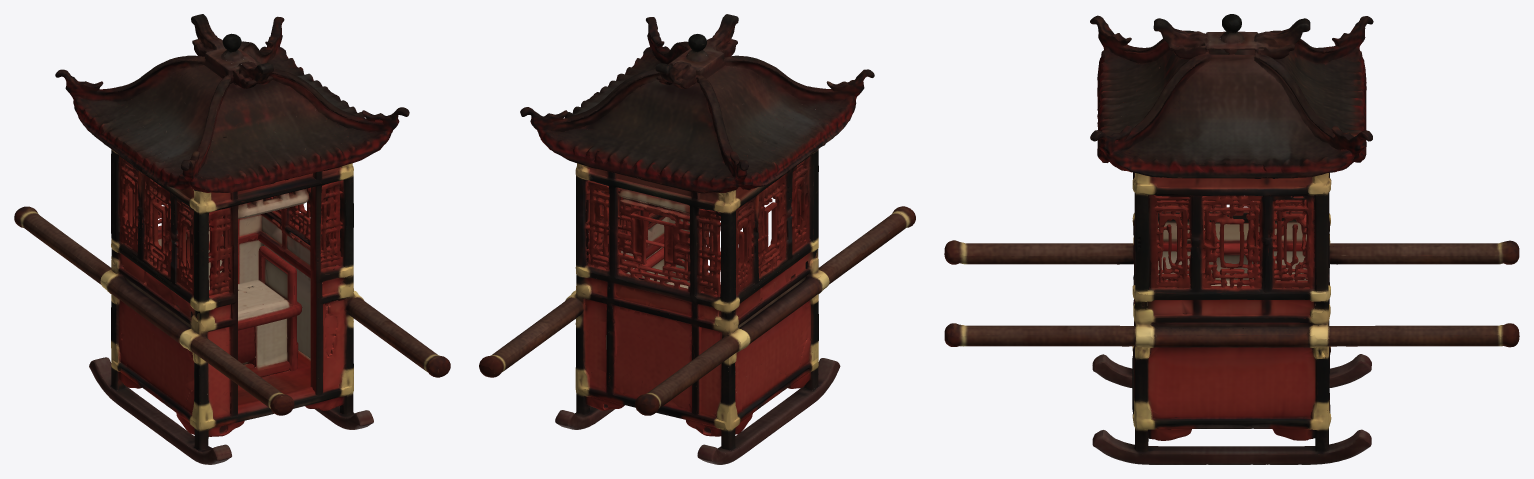
Rendered from sedan-chair.glb.
3 renders of one model, left to right at view 1: azimuth 30°, elevation 25°; view 2: azimuth 150°, elevation 25°; view 3: azimuth 270°, elevation 25°, orthographic. The views are drawn at different scales.
Parts seen in each view (by area): view 1: world; view 2: world; view 3: world.
Boxes of the visible parts, x1=… form: world: x1=14, y1=14, x2=450, y2=464; world: x1=479, y1=14, x2=915, y2=464; world: x1=944, y1=14, x2=1519, y2=464.
Size of the model in its own units: 1.8 by 2.84 by 3.62.
Materials: 1 (1 with a texture image).
